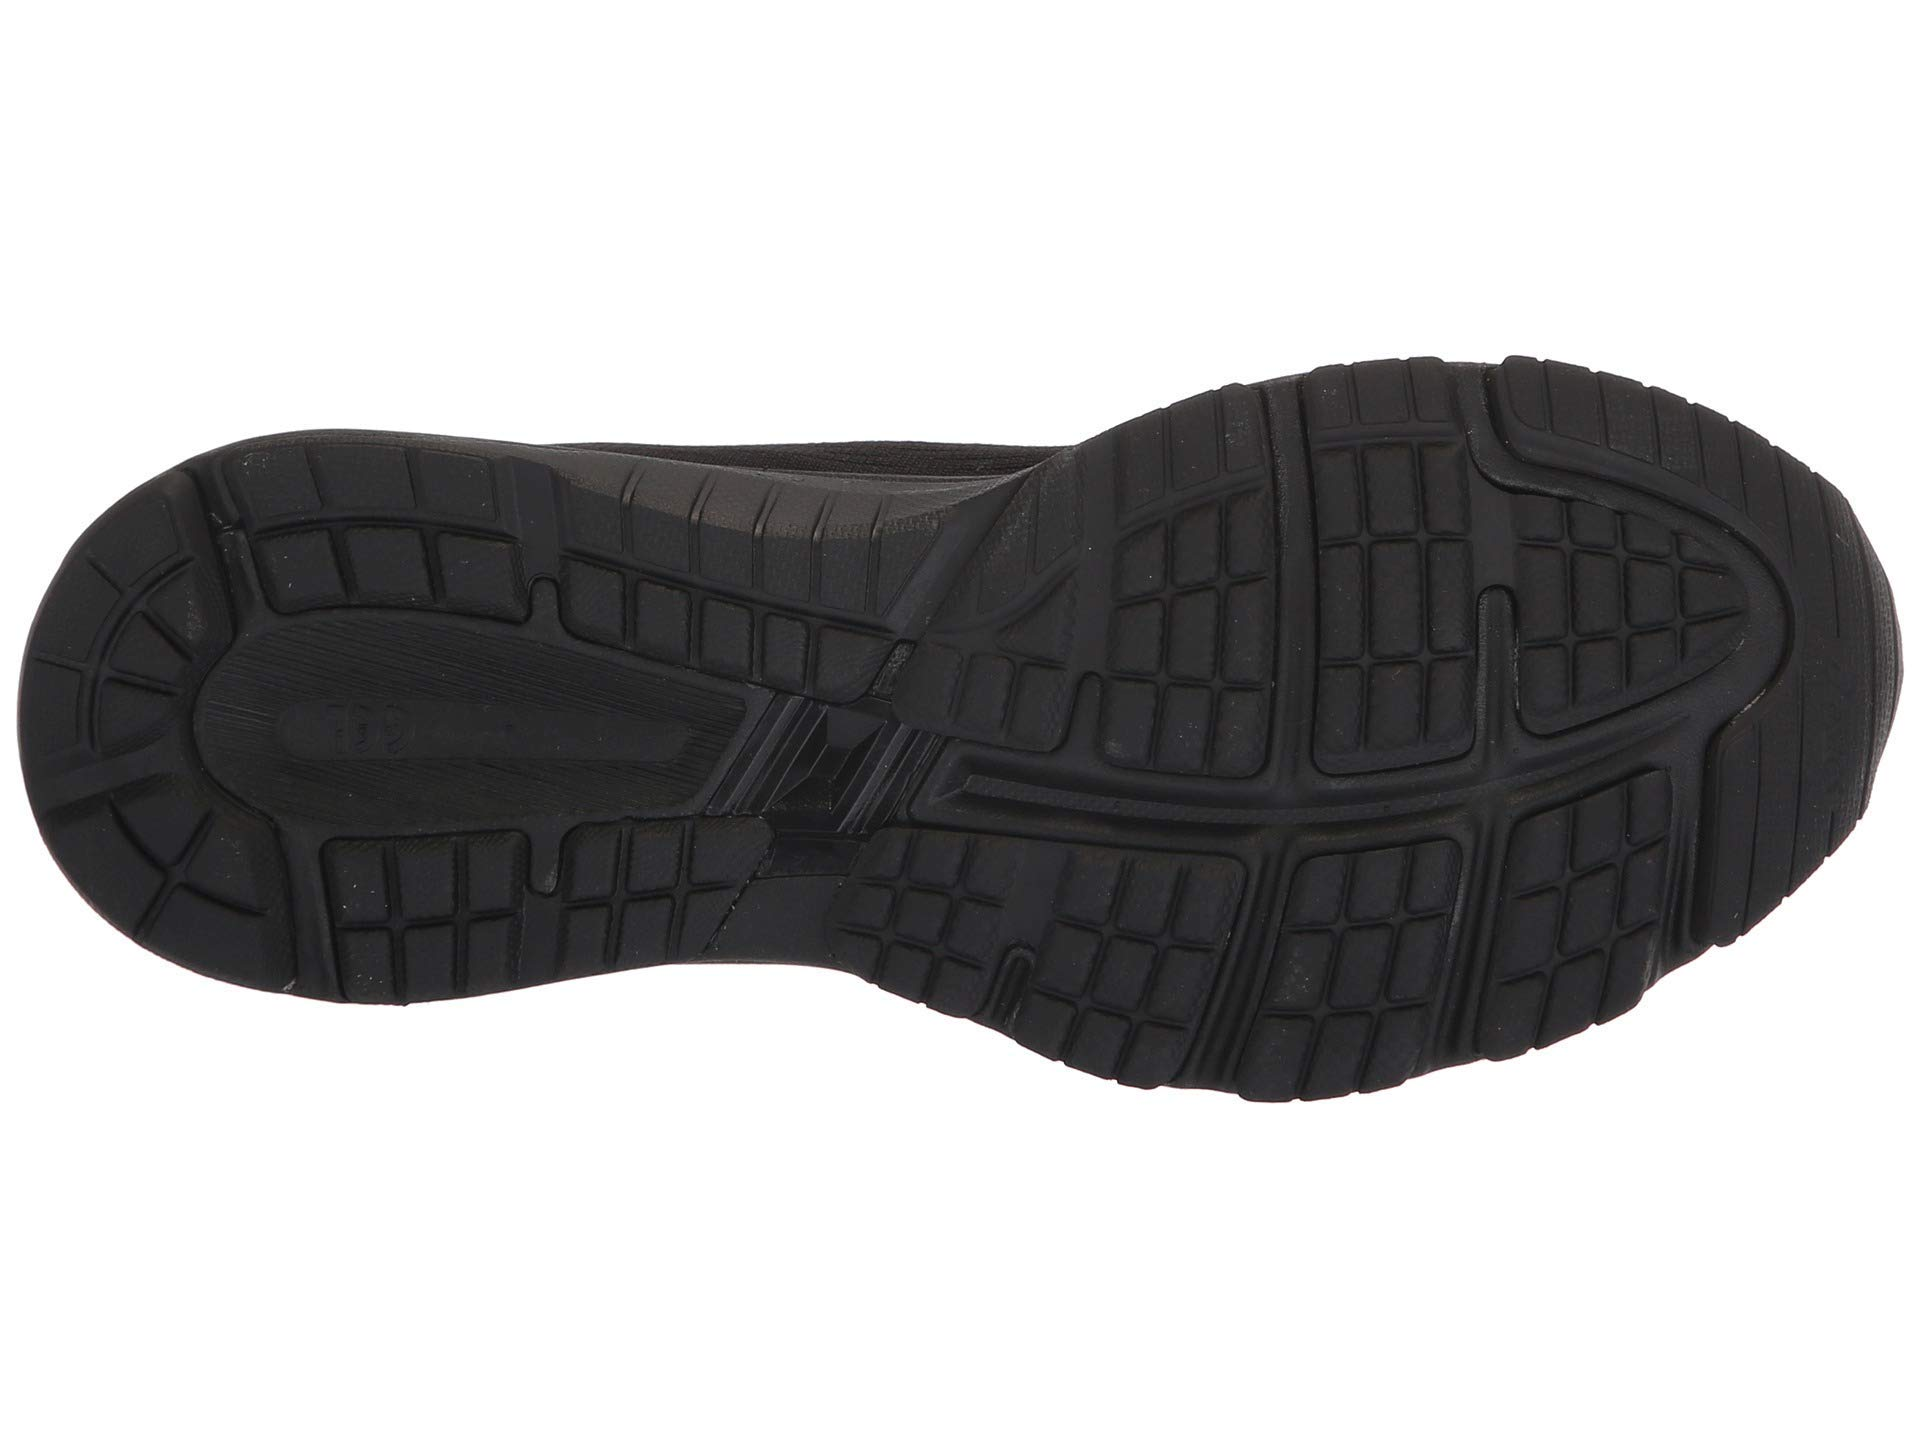quad: (1288, 368, 1482, 761), (1101, 424, 1276, 776), (224, 428, 540, 616), (39, 761, 299, 988), (1259, 829, 1469, 1086), (550, 552, 927, 694), (1503, 486, 1760, 691), (1017, 849, 1243, 1072), (1488, 803, 1677, 1004), (308, 829, 534, 989), (51, 520, 206, 749), (550, 815, 785, 961), (839, 824, 1011, 1004)
triangle: (1503, 486, 1760, 691), (993, 560, 1084, 679)
